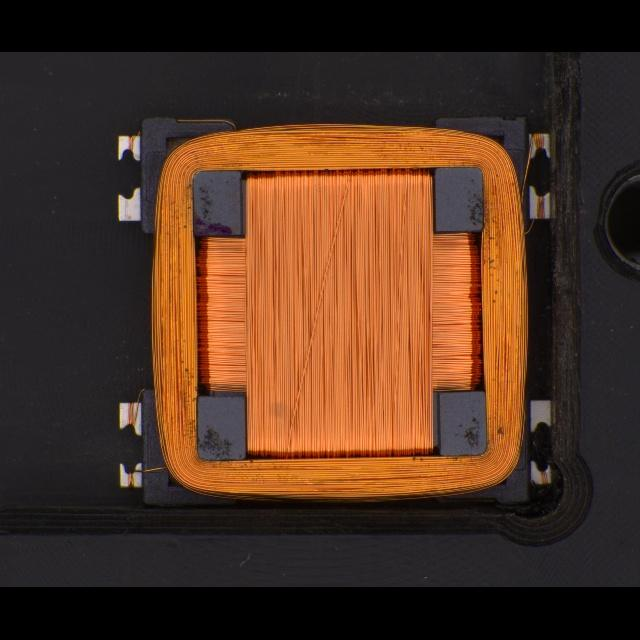Winding_Z: (131, 117, 532, 505)
